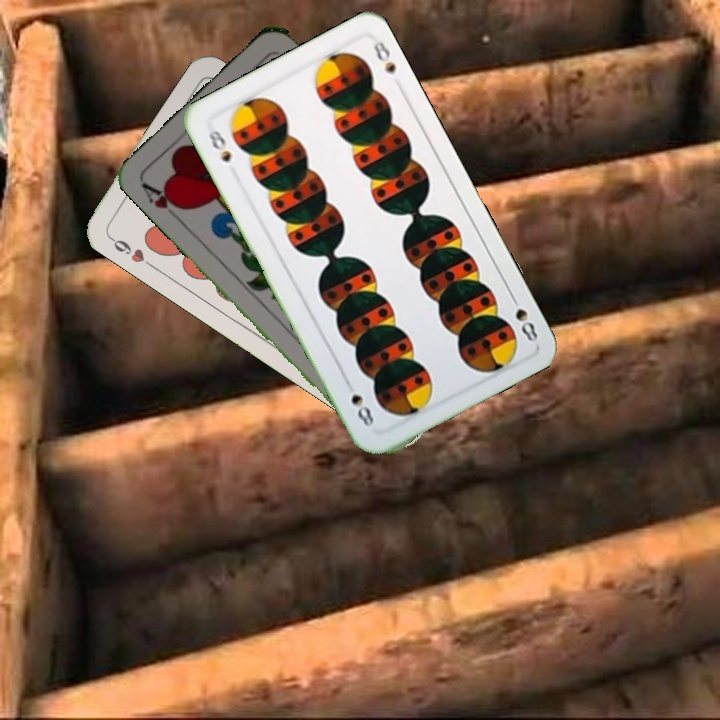H9: (104, 232, 157, 270)
HA: (138, 178, 188, 225)
S8: (505, 289, 541, 345), (204, 126, 234, 165)
